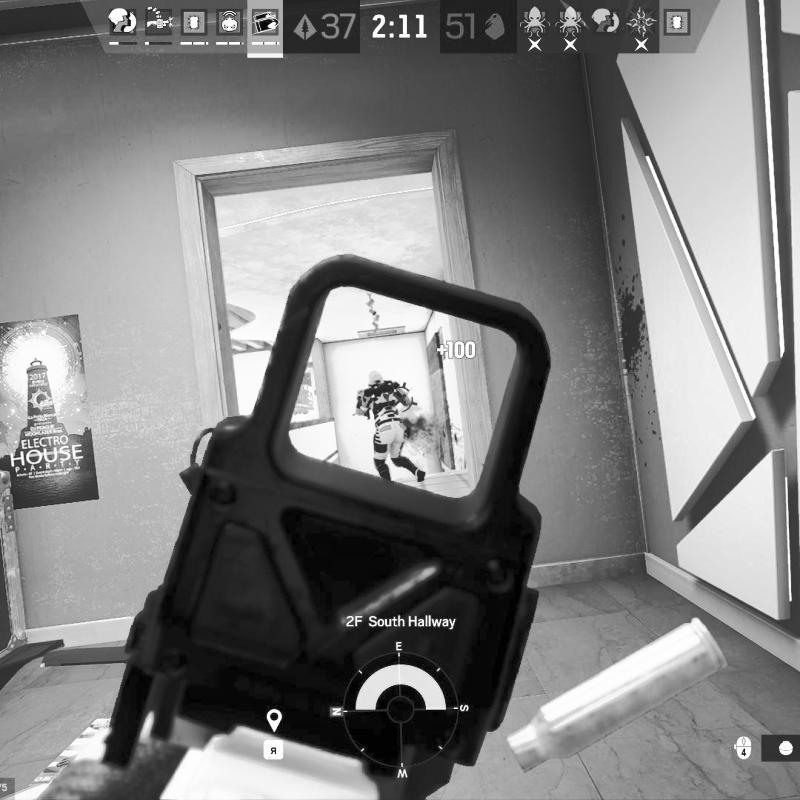Character: (352, 367, 426, 486)
Head: (366, 370, 384, 388)
